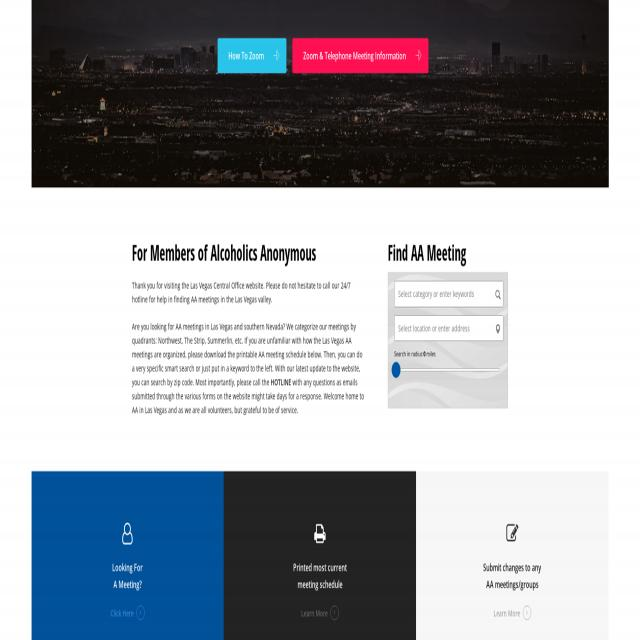button: (416, 471, 609, 640), (32, 471, 223, 640), (224, 471, 415, 640), (292, 38, 428, 74), (218, 38, 286, 74), (390, 357, 402, 382)
field: (394, 281, 504, 307), (394, 315, 504, 341)
